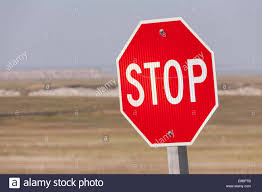Stop: (112, 18, 233, 156)
